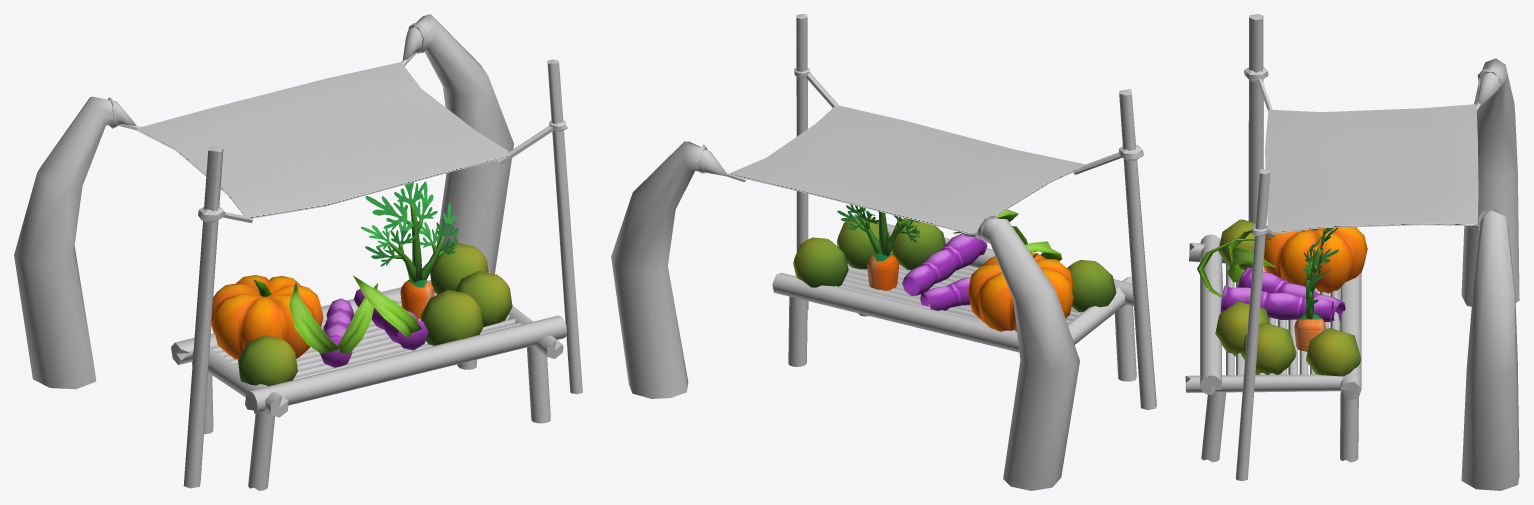
The model's file is Shop.fbx.
3 renders of one model, left to right at view 1: azimuth 30°, elevation 25°; view 2: azimuth 150°, elevation 25°; view 3: azimuth 270°, elevation 25°, orthographic. The views are drawn at different scales.
Parts seen in each view (by area): view 1: Newshop1_mod, Carrot_Coconut_mod, Pumpkin_Sugarcane_mod; view 2: Newshop1_mod, Carrot_Coconut_mod, Pumpkin_Sugarcane_mod; view 3: Newshop1_mod, Pumpkin_Sugarcane_mod, Carrot_Coconut_mod.
Boxes of the visible parts, left/top/right/bottom form: Newshop1_mod: left=14, top=14, right=582, bottom=490; Carrot_Coconut_mod: left=238, top=181, right=512, bottom=386; Pumpkin_Sugarcane_mod: left=211, top=275, right=428, bottom=367; Newshop1_mod: left=611, top=14, right=1156, bottom=490; Carrot_Coconut_mod: left=793, top=204, right=1116, bottom=311; Pumpkin_Sugarcane_mod: left=902, top=209, right=1073, bottom=331; Newshop1_mod: left=1185, top=14, right=1519, bottom=490; Pumpkin_Sugarcane_mod: left=1197, top=225, right=1367, bottom=322; Carrot_Coconut_mod: left=1215, top=219, right=1361, bottom=376.
Size of the model in its own units: 13.45 by 8.65 by 8.47.
